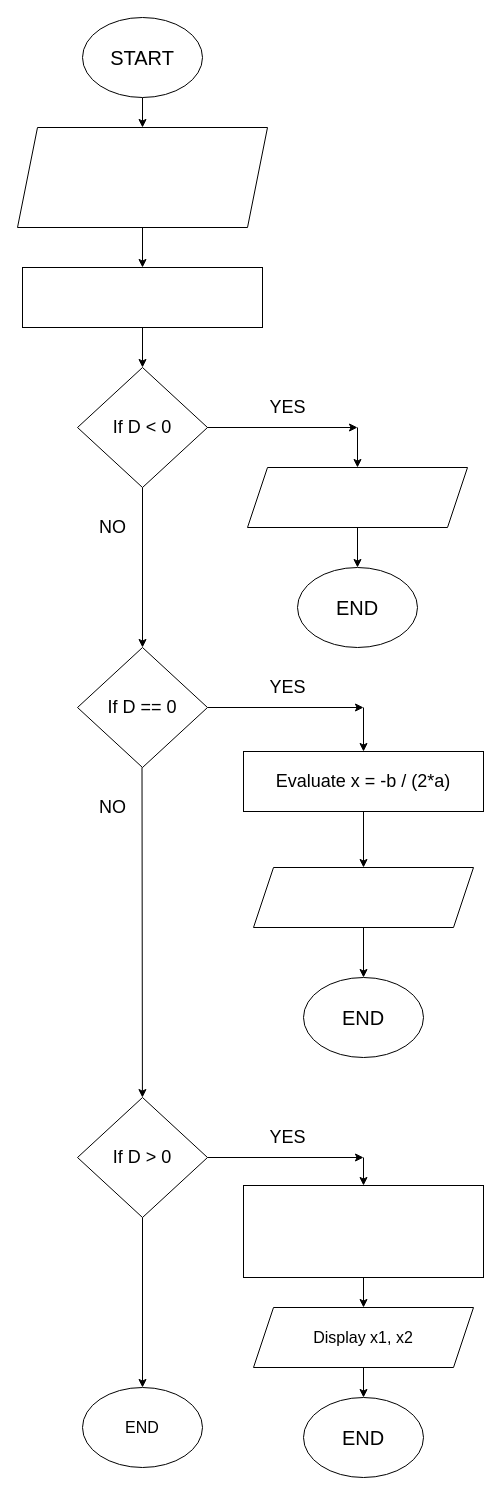
The diagram is 501 pixels wide and 1495 high, and some of its shapes have lost their labels. The shapes that lost their labels are listed below. From the top down, each one's box as (x1, y1, x2, y2) in pixels, then its label:
(16, 126, 268, 228): Read Numbers a, b, c
(22, 266, 262, 328): Evaluate D = b*b - 4*a*c
(246, 466, 468, 528): Display "No real roots"
(252, 866, 474, 928): Display x
(242, 1184, 484, 1278): Evaluate x1 = (-b + D^(1/2)) / (2*a) x2 = (-b - D^(1/2)) / (2*a)
